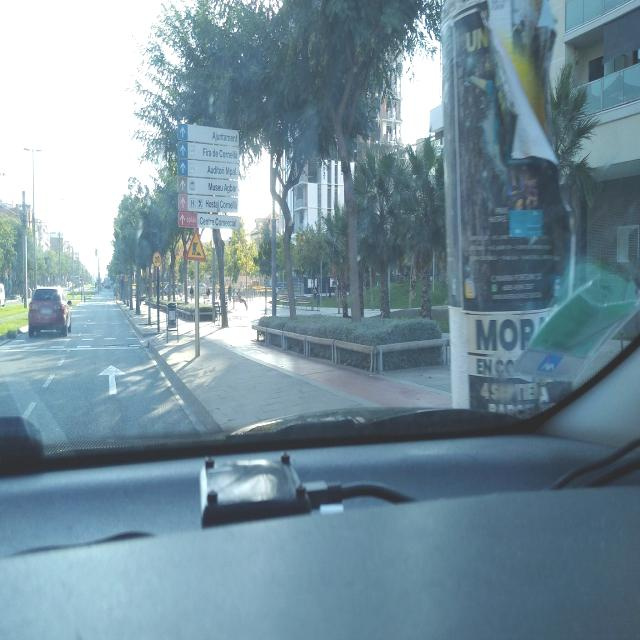car: (27, 286, 71, 337)
